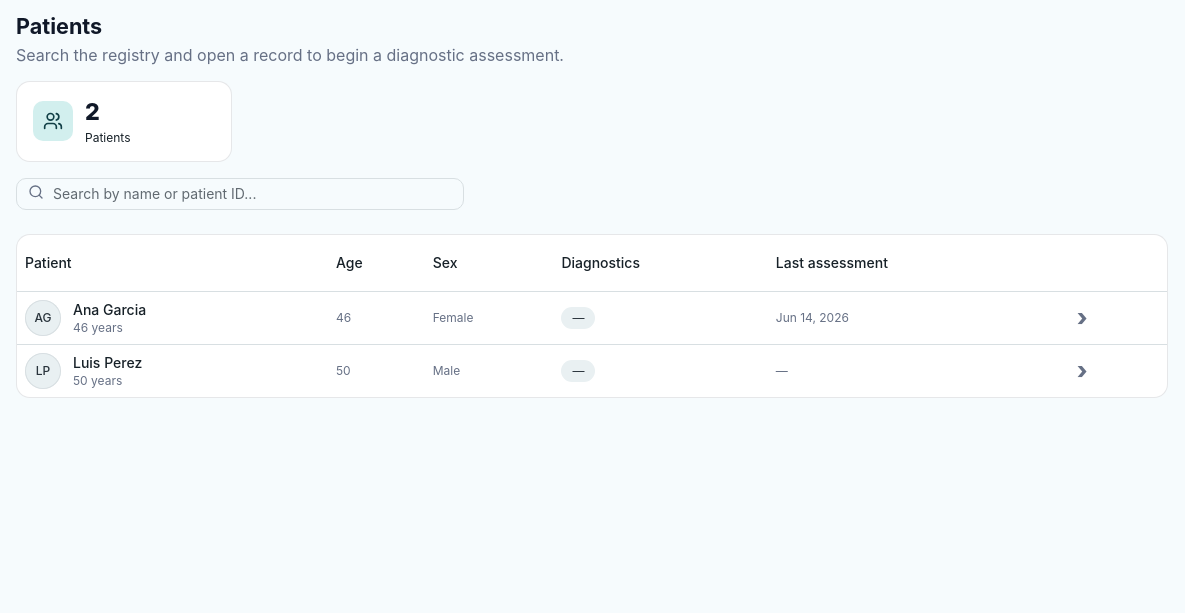
Test case: UC-01 AC-01 diagnostic history UI › GIVEN a selected patient with no diagnostics WHEN history loads THEN displays empty state
What coordinates should you click on to do the following:
click the button with aria-label "luis perez clinical record"
I would click on:
 (84, 371)
Its box is x1=25 y1=353 x2=142 y2=389.
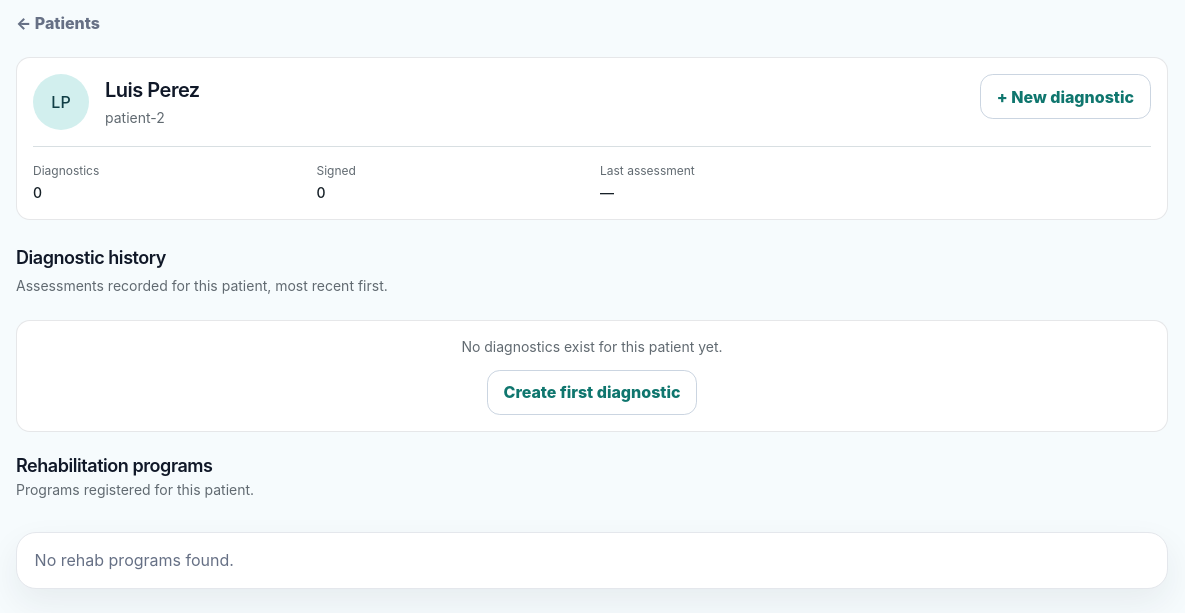
Result: the text "No diagnostics exist for this patient yet." is shown at x1=461 y1=337 x2=723 y2=357
